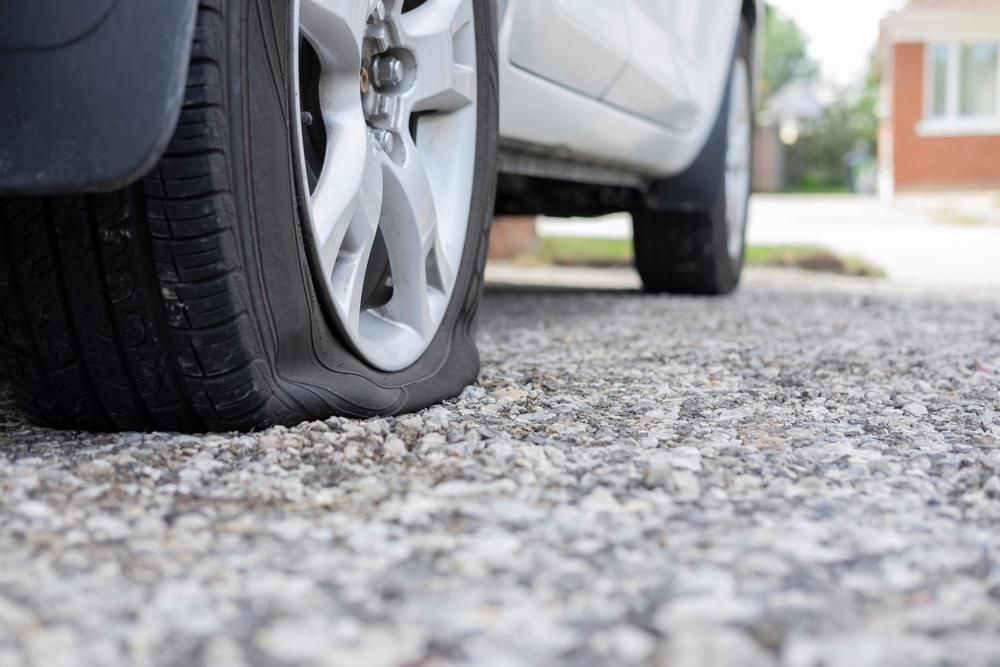tire flat: (0, 0, 502, 434)
